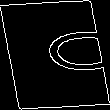O_W: (5, 31, 105, 79)
